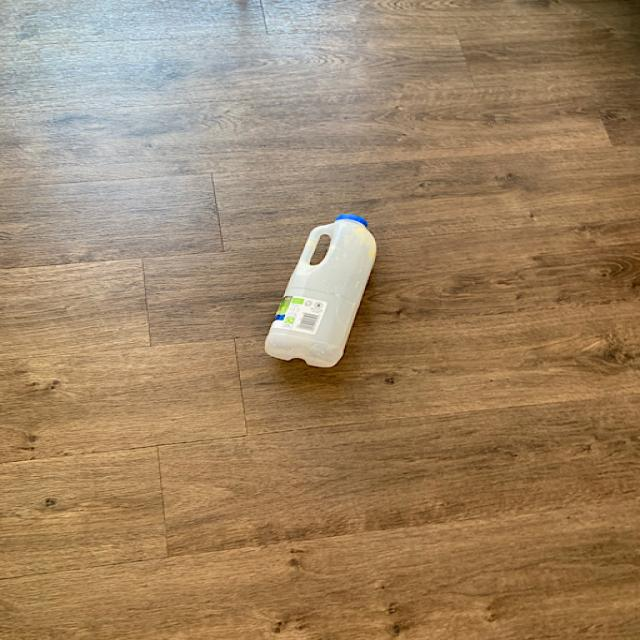HDPEM: (259, 214, 381, 370)
